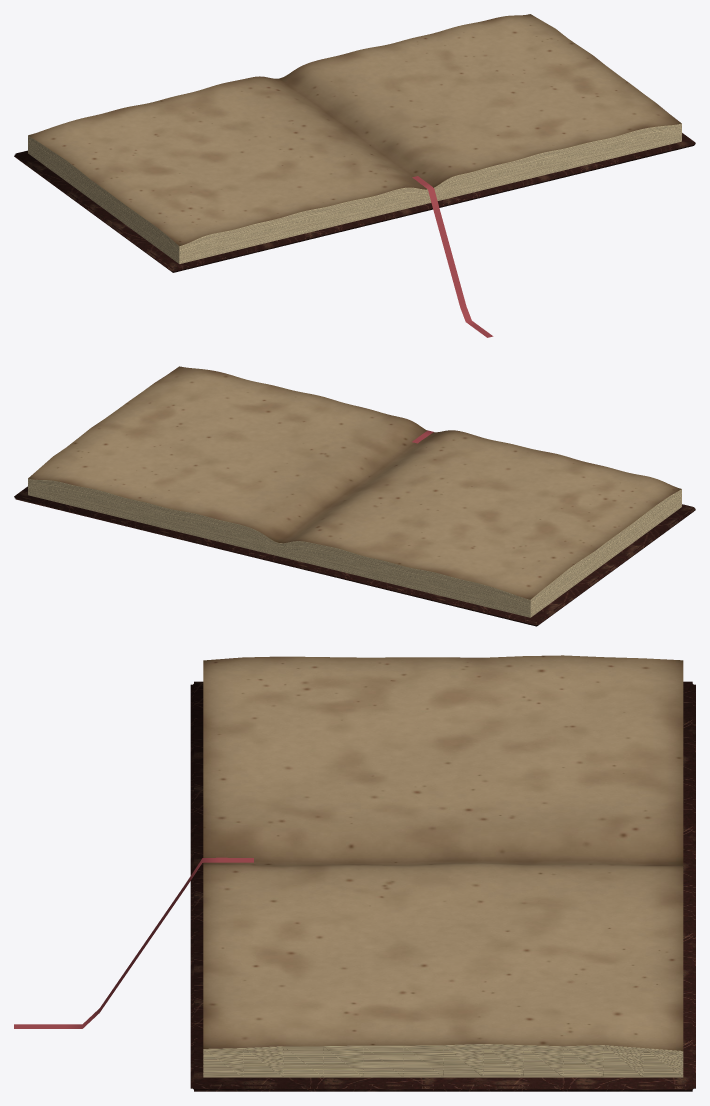
The model's file is login-book.glb.
3 views of the same model, one above another, from view 1: azimuth 30°, elevation 25°; view 2: azimuth 150°, elevation 25°; view 3: azimuth 270°, elevation 25° (orthographic). The views are drawn at different scales.
Visible parts, largest first — view 1: LoginBook; view 2: LoginBook; view 3: LoginBook.
Boxes of the visible parts, x1,y1,x2,y2 form: LoginBook: [14, 14, 695, 337]; LoginBook: [14, 366, 695, 626]; LoginBook: [14, 655, 695, 1091].
Size of the model in its own units: 0.76 by 0.1569 by 0.54.
Materials: 4 (3 with a texture image).
